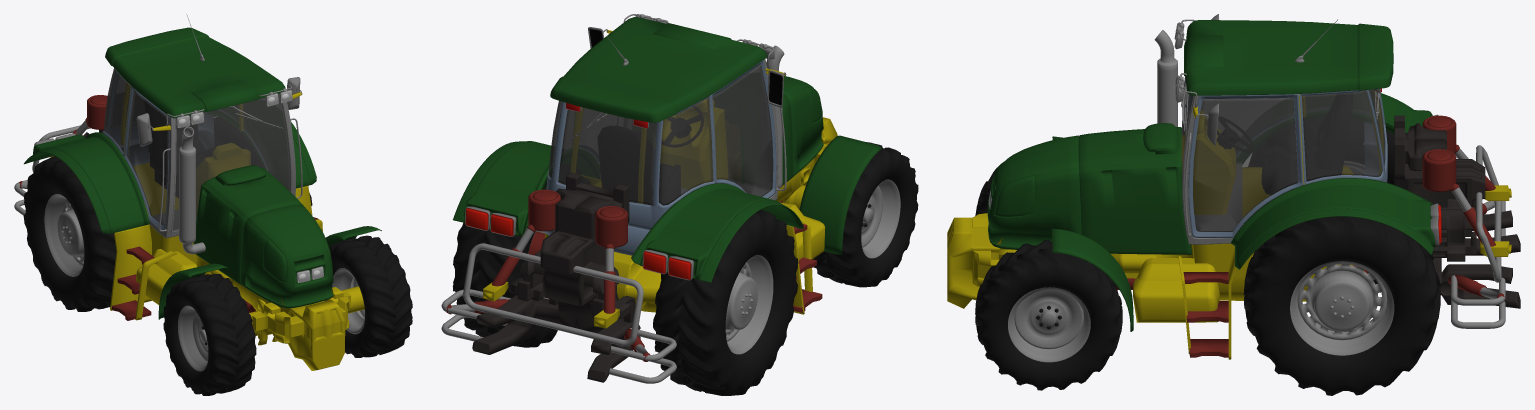
File: toy-tractor-vray.fbx
The picture shows the model from 3 angles, left to right: view 1: azimuth 30°, elevation 25°; view 2: azimuth 150°, elevation 25°; view 3: azimuth 270°, elevation 25°; orthographic projection. The views are drawn at different scales.
Parts seen in each view (by area): view 1: subD, Non_subD, Non_subD.3, Non_subD.2, subDx, subDx.3, subDx.2; view 2: subD, Non_subD, Non_subD.3, subDx, subDx.3; view 3: subD, Non_subD, Non_subD.2, subDx, subDx.2.
Boxes of the visible parts, <box> form: subD: <box>14,14,381,370</box>; Non_subD: <box>23,117,312,311</box>; Non_subD.3: <box>163,274,256,395</box>; Non_subD.2: <box>329,235,412,357</box>; subDx: <box>44,194,84,276</box>; subDx.3: <box>177,305,208,371</box>; subDx.2: <box>332,268,364,334</box>; subD: <box>441,14,881,383</box>; Non_subD: <box>452,162,798,395</box>; Non_subD.3: <box>813,142,918,287</box>; subDx: <box>528,230,773,354</box>; subDx.3: <box>861,179,900,258</box>; subD: <box>947,14,1520,359</box>; Non_subD: <box>1243,118,1440,395</box>; Non_subD.2: <box>975,240,1122,390</box>; subDx: <box>1290,161,1394,355</box>; subDx.2: <box>1008,287,1090,362</box>.
Size of what is drawn, in the model's own units: 65.52 by 75.9 by 121.
